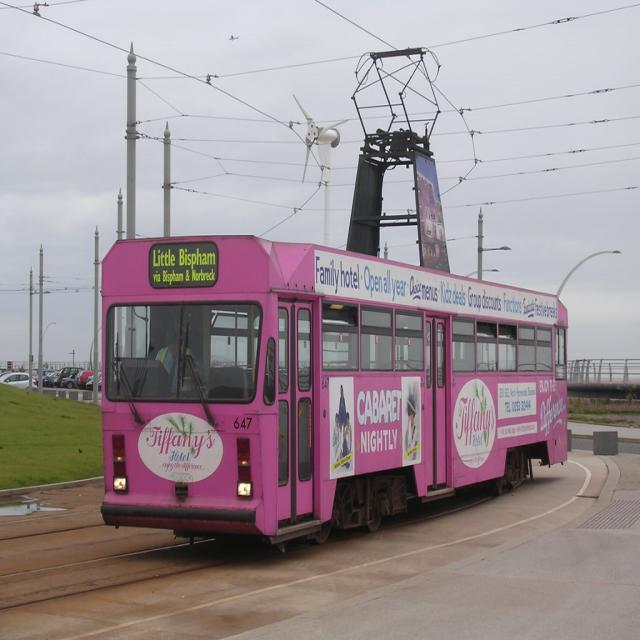other: (0, 372, 38, 390)
